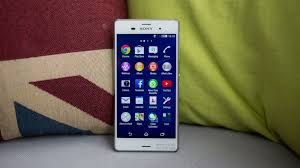sony: (114, 15, 179, 149)
